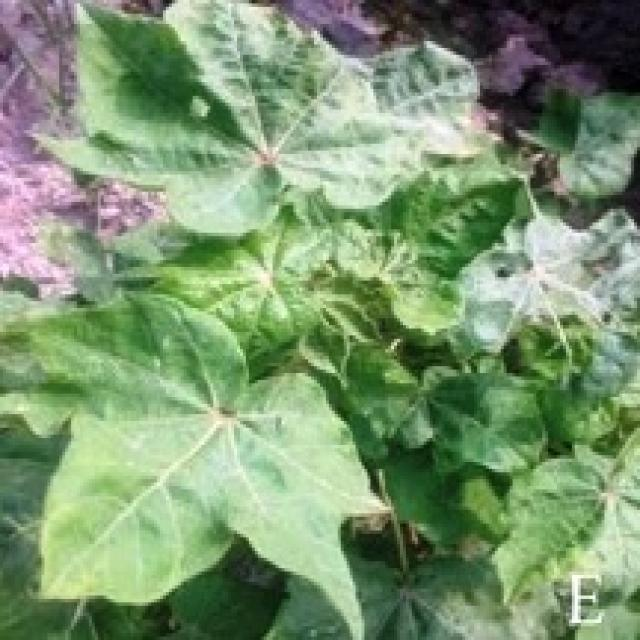Leaf Curl Virus: (149, 122, 492, 490)
